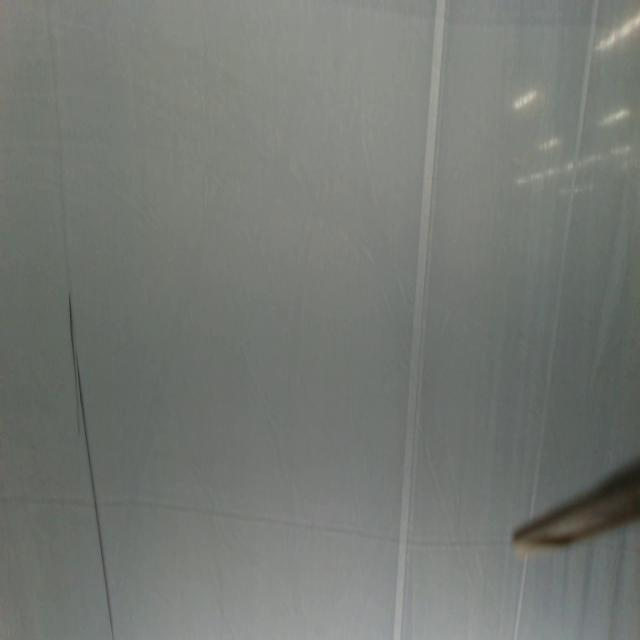color bleeding: (356, 0, 640, 33)
crease: (43, 1, 116, 640), (394, 0, 449, 639), (534, 0, 599, 486), (513, 554, 530, 640)
